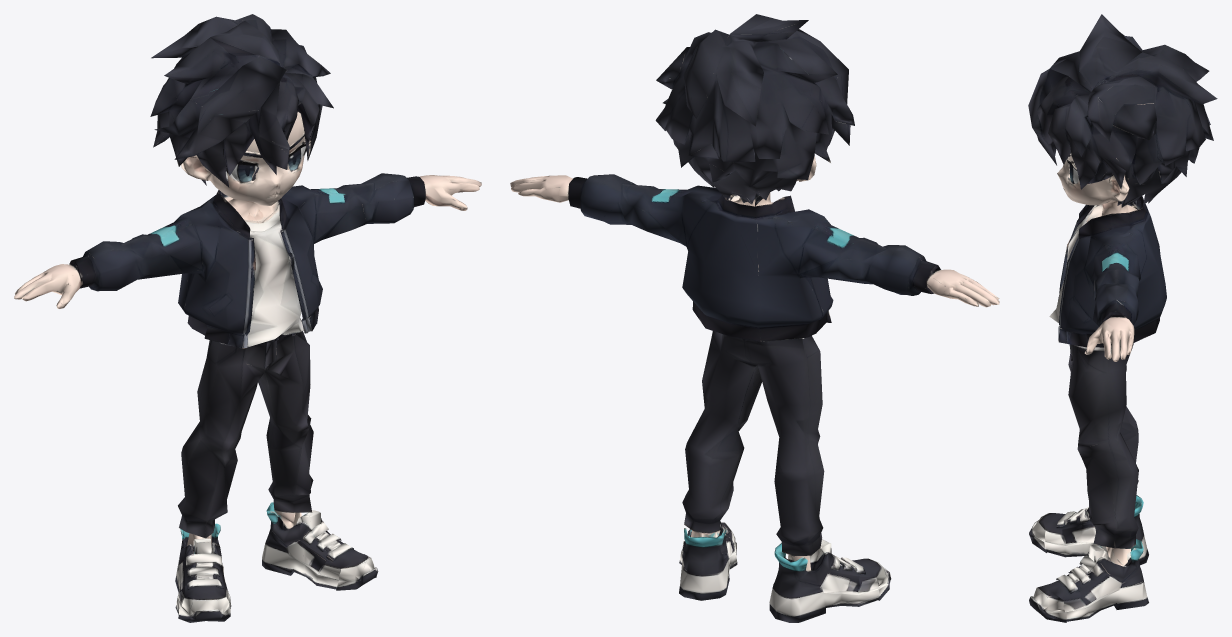
File: protagonist01-v001.fbx
The picture shows the model from 3 angles, left to right: view 1: azimuth 30°, elevation 25°; view 2: azimuth 150°, elevation 25°; view 3: azimuth 270°, elevation 25°; orthographic projection. The views are drawn at different scales.
Visible parts, largest first — view 1: Mesh_0; view 2: Mesh_0; view 3: Mesh_0.
Boxes of the visible parts, bbox=[...] form: Mesh_0: bbox=[14, 14, 481, 622]; Mesh_0: bbox=[510, 14, 999, 622]; Mesh_0: bbox=[1028, 14, 1217, 622].
Size of the model in its own units: 83.35 by 95.17 by 29.98.
1 material, 1 textured.
